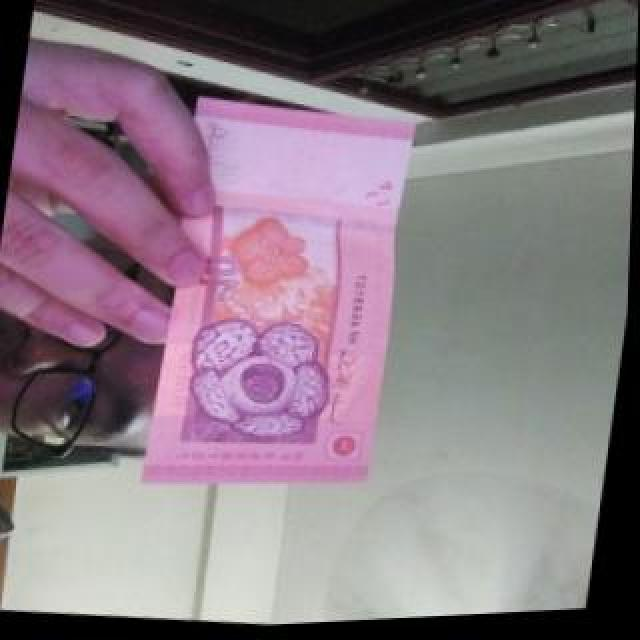10 Ringgit: (138, 86, 434, 514)
